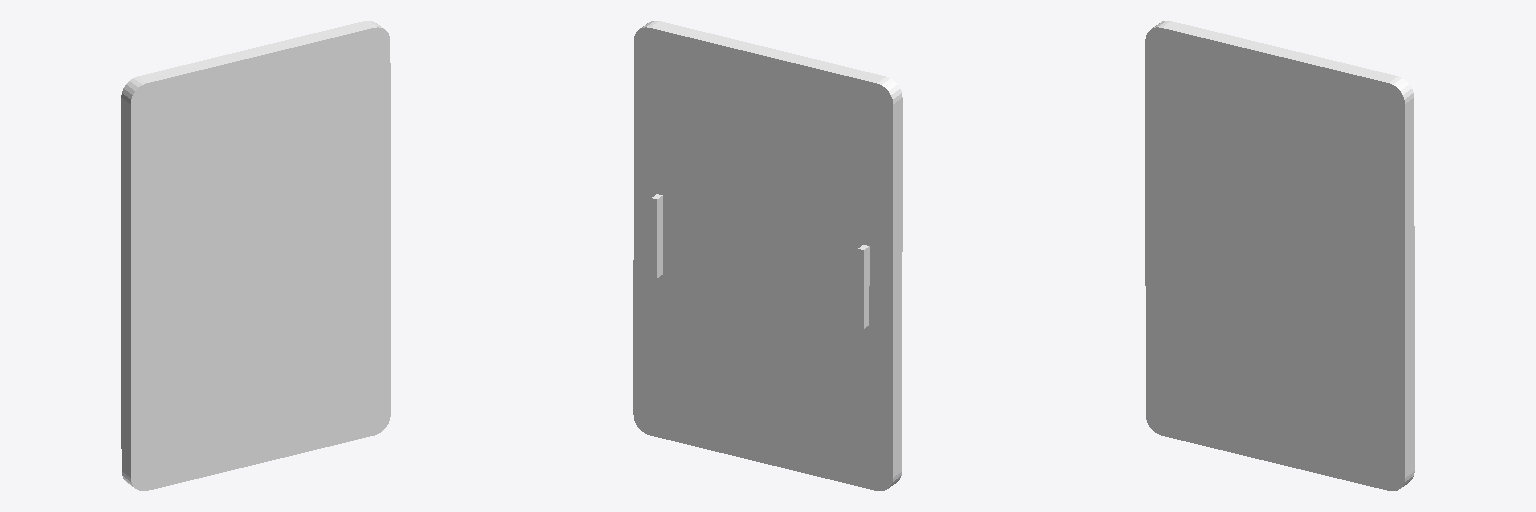
robot.urdf — walls:
<?xml version="1.0" encoding="utf-8"?>
<robot name="walls">
  <link name="base_link">
    <contact>
      <lateral_friction value="0.5"/>
      <rolling_friction value="0.0"/>
      <contact_cfm value="0.0"/>
      <contact_erp value="1.0"/>
    </contact>
    <inertial>
      <origin rpy="0 0 0" xyz="0 0 0"/>
      <mass value="0"/>
      <inertia ixx="0" ixy="0" ixz="0" iyy="0" iyz="0" izz="0"/>
    </inertial>
    <visual>
      <origin rpy="1.57 0 1.57" xyz="0 0 0"/>
      <geometry>
        <mesh filename="models/meshes/fridge/fridge.obj" scale="10 10 10"/>
      </geometry>
      <material name="tray_material">
        <color rgba="1 1 1 1"/>
      </material>
    </visual>
<!--     <collision concave="yes">
      <origin rpy="1.57 0 1.57" xyz="0 0 0"/>
      <geometry>
        <mesh filename="models/meshes/fridge/fridge.obj" scale="10 10 10"/>
      </geometry>
    </collision> -->
  </link>
</robot>

--- Facts derived from the render (not from the file) ---
The picture shows the robot from 3 angles, left to right: view 1: azimuth 30°, elevation 25°; view 2: azimuth 150°, elevation 25°; view 3: azimuth 330°, elevation 25°; orthographic projection.
Robot: walls — 1 links, 0 joints (none); root link base_link; default pose: every joint at zero.
Links seen in each view (by area): view 1: base_link; view 2: base_link; view 3: base_link.
Link boxes in pixels (x1=…): base_link: x1=121, y1=21, x2=390, y2=490; base_link: x1=633, y1=21, x2=902, y2=490; base_link: x1=1145, y1=21, x2=1414, y2=490.
Bounding box of the posed robot: 0.8009 × 0.0806 × 1.2 m (x, y, z).
Meshes: 1 distinct files referenced, 1 mesh visuals loaded (1 OBJ).